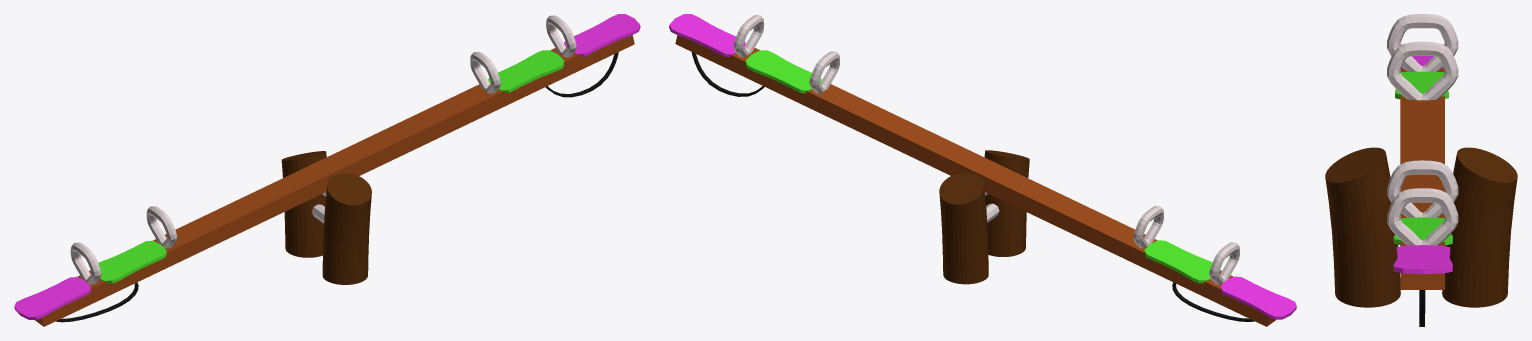
File: Seesaw.fbx
3 renders of one model, left to right at view 1: azimuth 30°, elevation 25°; view 2: azimuth 150°, elevation 25°; view 3: azimuth 270°, elevation 25°, orthographic. The views are drawn at different scales.
Visible parts, largest first — view 1: Wippe; view 2: Wippe; view 3: Wippe.
Part boxes in pixels (left/top/right/bottom): Wippe: left=14, top=14, right=640, bottom=326; Wippe: left=669, top=14, right=1296, bottom=326; Wippe: left=1325, top=14, right=1517, bottom=326.
Size of the model in its own units: 536 by 155 by 101.
